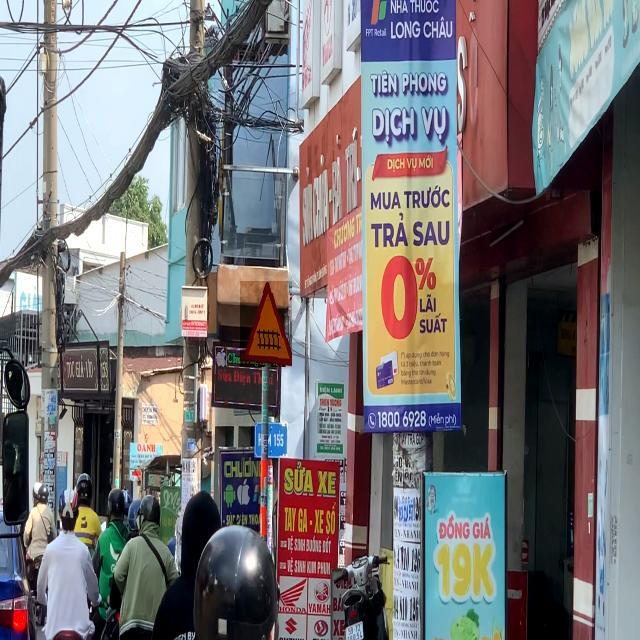W-210: (240, 281, 292, 367)
